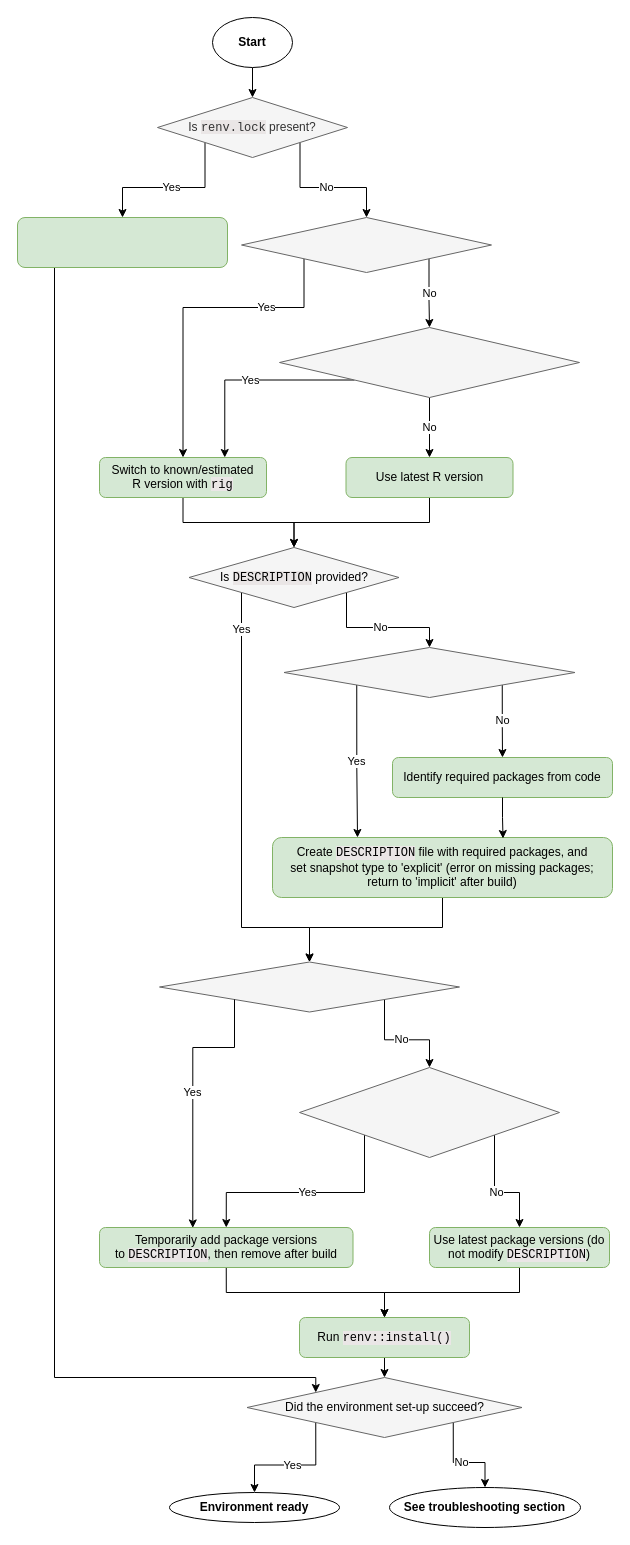
The diagram is 630 pixels wide and 1545 high, and some of its shapes have lost their labels. Each missing label, with the box of its shape:
Are package versions listed anywhere?: (158, 961, 460, 1012)
Are packages listed anywhere?: (283, 646, 575, 698)
Can you estimate R version based on known research dates?: (278, 326, 580, 398)
Can you estimate versions based on known research dates?: (298, 1066, 560, 1158)
Is R version specified elsewhere?: (240, 216, 492, 272)
Switch to listed R version with rig then run renv::restore(): (16, 216, 228, 268)
